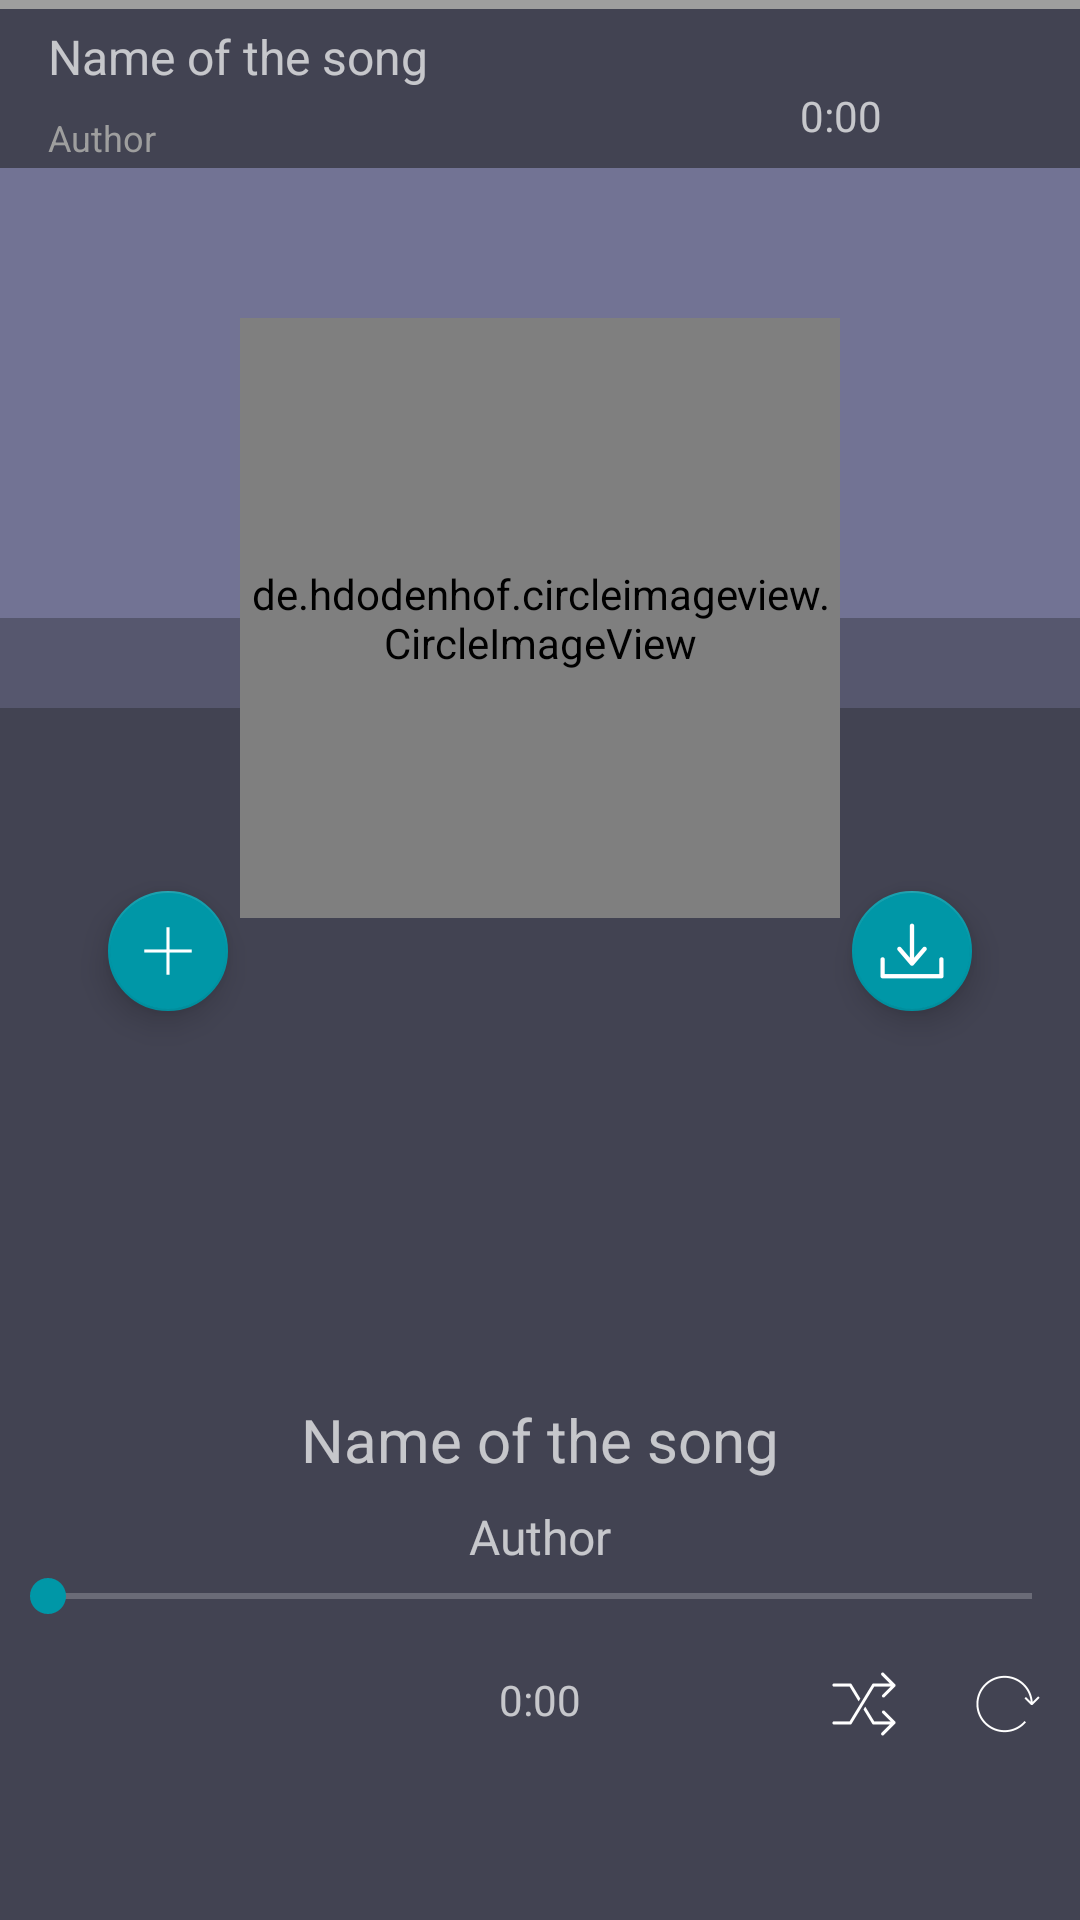

Icon click points for this 1080px x 1920px phone screenshot, format [x,y]:
add: [168,951]
download: [912,951]
random: [864,1704]
replay: [1008,1704]
